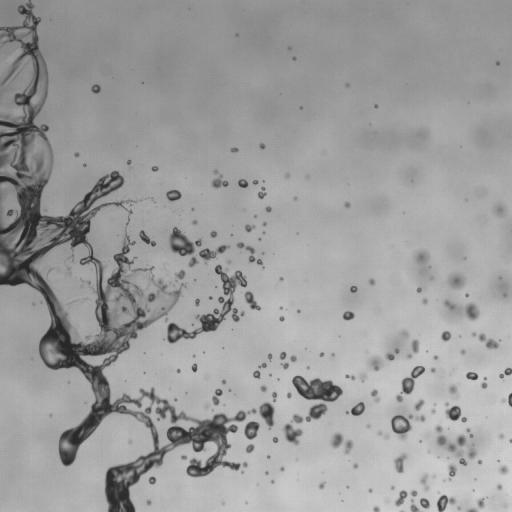droplet: (390, 414, 425, 440), (444, 400, 467, 422), (330, 432, 353, 454), (436, 491, 456, 511), (210, 169, 228, 189), (447, 272, 466, 289), (393, 453, 408, 473), (244, 420, 259, 439), (412, 248, 429, 264), (492, 203, 507, 217), (166, 189, 181, 202), (448, 383, 459, 400), (414, 398, 425, 411), (370, 389, 380, 403), (257, 186, 267, 199), (440, 330, 451, 341), (23, 69, 34, 80), (13, 105, 24, 116), (4, 165, 15, 176), (246, 184, 257, 195), (39, 188, 50, 199), (66, 198, 77, 209), (242, 233, 253, 244), (159, 235, 170, 246), (225, 236, 236, 247), (206, 239, 217, 250), (414, 239, 425, 250), (404, 248, 415, 259), (214, 253, 225, 264), (453, 263, 464, 274), (356, 279, 367, 290), (233, 285, 244, 296), (452, 287, 463, 298), (448, 288, 459, 299), (178, 294, 189, 305), (233, 296, 244, 307), (475, 301, 486, 312), (200, 303, 211, 314), (166, 311, 177, 322), (41, 317, 52, 328), (156, 319, 167, 330), (469, 319, 480, 330), (400, 340, 411, 351), (411, 354, 422, 365), (357, 361, 368, 372), (68, 365, 79, 376), (287, 365, 298, 376), (487, 374, 498, 385), (80, 378, 91, 389), (85, 392, 96, 403), (405, 392, 416, 403), (363, 396, 374, 407), (79, 406, 90, 417), (103, 412, 114, 423), (425, 415, 436, 426), (68, 417, 79, 428), (272, 422, 283, 433), (205, 440, 216, 451), (77, 441, 88, 452), (181, 441, 192, 452), (223, 450, 234, 461), (197, 452, 208, 463), (117, 454, 128, 465), (267, 461, 278, 472), (127, 484, 138, 495), (98, 499, 109, 510), (342, 310, 354, 320), (465, 371, 478, 380), (376, 430, 389, 439), (498, 464, 509, 474), (420, 498, 430, 509), (244, 224, 255, 233), (238, 179, 248, 188), (399, 329, 409, 338), (358, 372, 367, 382), (245, 444, 255, 453), (480, 376, 487, 388), (91, 84, 100, 93), (5, 91, 14, 100), (32, 116, 41, 125), (88, 176, 97, 185), (228, 179, 237, 188), (105, 192, 114, 201), (131, 203, 140, 212), (60, 208, 69, 217), (485, 209, 494, 218), (252, 217, 261, 226), (130, 231, 139, 240), (207, 258, 216, 267), (417, 262, 426, 271), (152, 269, 161, 278), (17, 282, 26, 291), (1, 283, 10, 292), (34, 291, 43, 300), (460, 297, 469, 306), (460, 314, 469, 323), (377, 350, 386, 359), (101, 367, 110, 376), (366, 368, 375, 377), (446, 376, 455, 385), (252, 378, 261, 387), (130, 390, 139, 399), (276, 391, 285, 400), (213, 404, 222, 413), (419, 405, 428, 414), (300, 407, 309, 416), (225, 409, 234, 418), (204, 411, 213, 420), (283, 414, 292, 423), (256, 416, 265, 425), (236, 420, 245, 429), (277, 431, 286, 440), (324, 433, 333, 442), (447, 434, 456, 443), (438, 444, 447, 453), (52, 454, 61, 463), (213, 464, 222, 473), (147, 466, 156, 475), (139, 473, 148, 482), (496, 473, 505, 482), (197, 474, 206, 483), (97, 479, 106, 488), (402, 497, 411, 506), (416, 285, 426, 293), (280, 361, 289, 369), (260, 383, 267, 393), (505, 204, 511, 215), (389, 505, 400, 511), (426, 505, 437, 511), (443, 505, 454, 511), (148, 476, 156, 484), (318, 481, 326, 489), (279, 351, 286, 360), (190, 363, 197, 372), (345, 374, 355, 380), (0, 67, 5, 78), (0, 263, 5, 274), (204, 401, 210, 410), (210, 230, 217, 237), (368, 278, 375, 285), (350, 285, 357, 292), (289, 355, 296, 362), (285, 391, 292, 398), (31, 8, 38, 15), (36, 39, 43, 46), (16, 47, 23, 54), (4, 63, 11, 70), (2, 180, 9, 187), (253, 184, 260, 191), (93, 199, 100, 206), (188, 235, 195, 242), (193, 245, 200, 252), (125, 251, 132, 258), (253, 251, 260, 258), (184, 253, 191, 260), (196, 256, 203, 263), (426, 257, 433, 264), (183, 265, 190, 272), (226, 270, 233, 277), (459, 286, 466, 293), (216, 288, 223, 295), (418, 291, 425, 298), (41, 302, 48, 309), (215, 302, 222, 309), (224, 312, 231, 319), (194, 320, 201, 327), (177, 321, 184, 328), (161, 322, 168, 329), (216, 322, 223, 329), (403, 323, 410, 330), (185, 325, 192, 332), (135, 328, 142, 335), (206, 329, 213, 336), (449, 330, 456, 337), (484, 332, 491, 339), (128, 337, 135, 344), (417, 343, 424, 350), (405, 344, 412, 351), (488, 347, 495, 354), (272, 352, 279, 359), (283, 355, 290, 362), (383, 358, 390, 365), (431, 360, 438, 367), (59, 366, 66, 373), (304, 375, 311, 382), (319, 375, 326, 382), (476, 376, 483, 383), (220, 384, 227, 391), (395, 384, 402, 391), (456, 385, 463, 392), (442, 386, 449, 393), (290, 387, 297, 394), (265, 388, 272, 395), (108, 396, 115, 403), (265, 396, 272, 403), (314, 397, 321, 404), (167, 398, 174, 405), (324, 400, 331, 407), (271, 401, 278, 408), (411, 409, 418, 416), (271, 413, 278, 420), (243, 416, 250, 423), (138, 421, 145, 428), (291, 422, 298, 429), (370, 425, 377, 432), (440, 429, 447, 436), (225, 431, 232, 438), (390, 431, 397, 438), (431, 431, 438, 438), (341, 434, 348, 441), (146, 436, 153, 443), (464, 436, 471, 443), (249, 437, 256, 444), (244, 438, 251, 445), (286, 440, 293, 447), (338, 442, 345, 449), (326, 444, 333, 451), (473, 444, 480, 451), (147, 445, 154, 452), (349, 446, 356, 453), (392, 451, 399, 458), (162, 453, 169, 460), (221, 454, 228, 461), (71, 459, 78, 466), (183, 459, 190, 466), (401, 460, 408, 467), (388, 461, 395, 468), (455, 463, 462, 470), (415, 472, 422, 479), (425, 477, 432, 484), (474, 492, 481, 499), (470, 501, 477, 508), (344, 200, 350, 208), (449, 368, 455, 376), (372, 505, 380, 511), (194, 297, 199, 306), (267, 352, 272, 361), (151, 165, 158, 171), (422, 298, 428, 305), (429, 367, 436, 373), (180, 454, 187, 460), (352, 462, 358, 469), (230, 147, 238, 152), (259, 143, 265, 149), (284, 172, 290, 178), (265, 206, 271, 212), (191, 219, 197, 225), (460, 348, 466, 354), (365, 423, 371, 429), (498, 433, 504, 439), (272, 437, 278, 443), (496, 484, 502, 490), (384, 497, 390, 503), (18, 0, 27, 4), (252, 180, 258, 185), (278, 316, 284, 321), (221, 379, 226, 385), (477, 459, 482, 465), (146, 499, 151, 505), (507, 465, 511, 472), (459, 507, 466, 511), (477, 507, 484, 511), (74, 152, 79, 157), (262, 221, 267, 226), (226, 260, 231, 265), (502, 292, 507, 297), (319, 352, 324, 357), (176, 368, 181, 373), (390, 485, 395, 490), (20, 13, 25, 18), (7, 22, 12, 27), (35, 24, 40, 29), (289, 51, 294, 56), (46, 67, 51, 72), (47, 74, 52, 79), (47, 81, 52, 86), (86, 85, 91, 90), (99, 87, 104, 92), (17, 88, 22, 93), (46, 91, 51, 96), (96, 91, 101, 96), (92, 92, 97, 97), (44, 98, 49, 103), (17, 104, 22, 109), (40, 106, 45, 111), (43, 130, 48, 135), (263, 141, 268, 146), (231, 142, 236, 147), (50, 143, 55, 148), (255, 145, 260, 150), (232, 151, 237, 156), (52, 154, 57, 159), (52, 161, 57, 166), (151, 161, 156, 166), (217, 168, 222, 173), (106, 169, 111, 174), (118, 170, 123, 175), (98, 172, 103, 177), (213, 173, 218, 178), (122, 175, 127, 180), (220, 176, 225, 181), (247, 181, 252, 186), (257, 181, 262, 186), (121, 182, 126, 187), (262, 182, 267, 187), (168, 185, 173, 190), (174, 185, 179, 190), (219, 185, 224, 190), (117, 186, 122, 191), (210, 186, 215, 191), (239, 186, 244, 191), (85, 187, 90, 192), (179, 189, 184, 194), (79, 194, 84, 199), (163, 197, 168, 202), (145, 198, 150, 203), (172, 199, 177, 204), (339, 201, 344, 206), (349, 201, 354, 206), (91, 202, 96, 207), (344, 207, 349, 212), (261, 208, 266, 213), (129, 213, 134, 218), (196, 218, 201, 223), (247, 220, 252, 225), (262, 225, 267, 230), (240, 226, 245, 231), (250, 228, 255, 233), (144, 230, 149, 235), (257, 232, 262, 237), (260, 234, 265, 239), (238, 237, 243, 242), (140, 240, 145, 245), (243, 241, 248, 246), (249, 242, 254, 247), (199, 244, 204, 249), (240, 246, 245, 251), (223, 248, 228, 253), (245, 250, 250, 255), (174, 251, 179, 256), (129, 263, 134, 268), (140, 263, 145, 268), (193, 263, 198, 268), (256, 264, 261, 269), (175, 267, 180, 272), (151, 268, 156, 273), (371, 274, 376, 279), (153, 275, 158, 280), (180, 277, 185, 282), (177, 278, 182, 283), (162, 279, 167, 284), (374, 279, 379, 284), (366, 283, 371, 288), (242, 286, 247, 291), (177, 295, 182, 300), (212, 295, 217, 300), (223, 295, 228, 300), (252, 296, 257, 301), (439, 297, 444, 302), (41, 298, 46, 303), (426, 299, 431, 304), (245, 302, 250, 307), (173, 303, 178, 308), (230, 303, 235, 308), (443, 305, 448, 310), (349, 307, 354, 312), (252, 308, 257, 313), (227, 310, 232, 315), (278, 310, 283, 315), (235, 311, 240, 316), (338, 311, 343, 316), (353, 312, 358, 317), (167, 318, 172, 323), (347, 318, 352, 323), (344, 319, 349, 324), (235, 320, 240, 325), (201, 330, 206, 335), (437, 330, 442, 335), (475, 330, 480, 335), (466, 331, 471, 336), (473, 335, 478, 340), (179, 336, 184, 341), (438, 337, 443, 342), (493, 337, 498, 342), (163, 338, 168, 343), (445, 339, 450, 344), (480, 340, 485, 345), (393, 343, 398, 348), (455, 347, 460, 352), (464, 347, 469, 352), (464, 350, 469, 355), (323, 352, 328, 357), (411, 352, 416, 357), (35, 353, 40, 358), (117, 353, 122, 358), (393, 353, 398, 358), (458, 353, 463, 358), (263, 357, 268, 362), (389, 359, 394, 364), (188, 361, 193, 366), (419, 361, 424, 366), (408, 365, 413, 370), (47, 367, 52, 372), (258, 367, 263, 372), (469, 367, 474, 372), (377, 368, 382, 373), (463, 368, 468, 373), (473, 368, 478, 373), (347, 370, 352, 375), (290, 372, 295, 377), (353, 372, 358, 377), (503, 374, 508, 379), (354, 376, 359, 381), (413, 377, 418, 382), (467, 378, 472, 383), (486, 383, 491, 388), (339, 384, 344, 389), (372, 384, 377, 389), (255, 386, 260, 391), (145, 387, 150, 392), (367, 387, 372, 392), (221, 389, 226, 394), (153, 390, 158, 395), (376, 391, 381, 396), (401, 392, 406, 397), (216, 394, 221, 399), (337, 394, 342, 399), (503, 394, 508, 399), (275, 395, 280, 400), (299, 395, 304, 400), (391, 396, 396, 401), (208, 399, 213, 404), (503, 400, 508, 405), (363, 402, 368, 407), (447, 403, 452, 408), (254, 405, 259, 410), (346, 406, 351, 411), (242, 407, 247, 412), (174, 410, 179, 415), (394, 410, 399, 415), (185, 411, 190, 416), (126, 413, 131, 418), (319, 413, 324, 418), (403, 413, 408, 418), (353, 414, 358, 419), (310, 417, 315, 422), (446, 417, 451, 422), (456, 417, 461, 422), (301, 418, 306, 423), (408, 418, 413, 423), (233, 420, 238, 425), (386, 423, 391, 428), (145, 426, 150, 431), (497, 428, 502, 433), (405, 430, 410, 435), (56, 431, 61, 436), (463, 432, 468, 437), (493, 433, 498, 438), (295, 435, 300, 440), (377, 435, 382, 440), (504, 435, 509, 440), (225, 448, 230, 453), (250, 449, 255, 454), (345, 453, 350, 458), (463, 455, 468, 460), (473, 455, 478, 460), (350, 458, 355, 463), (497, 461, 502, 466), (347, 463, 352, 468), (275, 464, 280, 469), (224, 465, 229, 470), (238, 465, 243, 470), (354, 467, 359, 472), (230, 468, 235, 473), (444, 468, 449, 473), (427, 470, 432, 475), (394, 471, 399, 476), (398, 472, 403, 477), (266, 474, 271, 479), (317, 478, 322, 483), (154, 479, 159, 484), (314, 481, 319, 486), (491, 484, 496, 489), (501, 484, 506, 489), (318, 488, 323, 493), (405, 488, 410, 493), (496, 489, 501, 494), (439, 490, 444, 495), (394, 493, 399, 498), (150, 499, 155, 504), (416, 503, 421, 508), (432, 355, 438, 359), (30, 0, 37, 3), (0, 124, 3, 131), (305, 174, 309, 179), (293, 196, 297, 201), (278, 306, 283, 310), (331, 352, 335, 357), (128, 439, 132, 444), (280, 466, 284, 471), (270, 479, 274, 484), (368, 488, 372, 493), (207, 296, 213, 299), (292, 56, 296, 60), (345, 83, 349, 87), (374, 104, 378, 108), (43, 207, 47, 211), (190, 207, 194, 211), (253, 214, 257, 218), (279, 277, 283, 281), (429, 276, 433, 280), (465, 293, 469, 297), (296, 309, 300, 313), (345, 485, 349, 489), (503, 503, 507, 507), (265, 470, 268, 475), (508, 373, 511, 378), (368, 508, 373, 511), (378, 508, 383, 511), (442, 508, 447, 511), (288, 46, 291, 50), (496, 61, 499, 65), (262, 230, 265, 234), (258, 237, 261, 241), (498, 276, 502, 279), (458, 334, 461, 338), (365, 350, 368, 354), (306, 366, 310, 369), (49, 413, 52, 417), (241, 470, 244, 474), (221, 501, 224, 505), (244, 501, 248, 504), (457, 506, 460, 510), (509, 438, 511, 443), (0, 22, 2, 27), (0, 29, 2, 34), (235, 33, 238, 36), (299, 106, 302, 109), (83, 163, 86, 166), (464, 198, 467, 201), (230, 233, 233, 236), (463, 256, 466, 259), (193, 278, 196, 281), (214, 284, 217, 287), (32, 302, 35, 305), (191, 323, 194, 326), (192, 354, 195, 357), (268, 373, 271, 376), (276, 378, 279, 381), (67, 380, 70, 383), (228, 388, 231, 391), (174, 398, 177, 401), (222, 403, 225, 406), (427, 450, 430, 453), (267, 455, 270, 458), (446, 456, 449, 459), (497, 459, 500, 462), (289, 55, 292, 58), (295, 55, 298, 58), (295, 58, 298, 61), (291, 59, 294, 62), (492, 61, 495, 64), (495, 64, 498, 67), (18, 72, 21, 75), (143, 81, 146, 84), (90, 82, 93, 85), (140, 83, 143, 86), (374, 100, 377, 103), (371, 103, 374, 106), (377, 103, 380, 106), (296, 105, 299, 108), (373, 107, 376, 110), (46, 123, 49, 126), (227, 148, 230, 151), (260, 148, 263, 151), (74, 149, 77, 152), (78, 152, 81, 155), (71, 154, 74, 157), (75, 156, 78, 159), (127, 156, 130, 159), (124, 158, 127, 161), (81, 160, 84, 163), (123, 161, 126, 164), (85, 162, 88, 165), (129, 162, 132, 165), (79, 163, 82, 166), (83, 166, 86, 169), (153, 170, 156, 173), (254, 176, 257, 179), (263, 177, 266, 180), (235, 182, 238, 185), (225, 185, 228, 188), (258, 188, 261, 191), (150, 193, 153, 196), (144, 194, 147, 197), (255, 194, 258, 197), (263, 195, 266, 198), (136, 196, 139, 199), (123, 197, 126, 200), (132, 197, 135, 200), (257, 197, 260, 200), (143, 199, 146, 202), (154, 202, 157, 205), (191, 204, 194, 207), (130, 205, 133, 208), (131, 208, 134, 211), (188, 208, 191, 211), (270, 208, 273, 211), (191, 210, 194, 213), (254, 211, 257, 214), (266, 211, 269, 214), (250, 213, 253, 216), (191, 217, 194, 220), (128, 220, 131, 223), (265, 223, 268, 226), (214, 228, 217, 231), (230, 230, 233, 233), (227, 231, 230, 234), (126, 232, 129, 235), (207, 233, 210, 236), (147, 242, 150, 245), (260, 258, 263, 261), (253, 259, 256, 262), (159, 263, 162, 266), (146, 265, 149, 268), (165, 265, 168, 268), (236, 267, 239, 270), (263, 267, 266, 270), (241, 272, 244, 275), (282, 275, 285, 278), (276, 276, 279, 279), (192, 280, 195, 283), (220, 281, 223, 284), (246, 281, 249, 284), (352, 282, 355, 285), (185, 283, 188, 286), (356, 285, 359, 288), (347, 287, 350, 290), (413, 287, 416, 290), (353, 291, 356, 294), (467, 291, 470, 294), (462, 294, 465, 297), (192, 297, 195, 300), (198, 301, 201, 304), (279, 303, 282, 306), (282, 306, 285, 309), (297, 306, 300, 309), (259, 308, 262, 311), (293, 309, 296, 312), (297, 312, 300, 315), (276, 315, 279, 318), (277, 319, 280, 322), (282, 319, 285, 322), (195, 333, 198, 336), (187, 337, 190, 340), (220, 343, 223, 346), (223, 346, 226, 349), (220, 348, 223, 351), (330, 349, 333, 352), (317, 350, 320, 353), (333, 350, 336, 353), (199, 351, 202, 354), (204, 351, 207, 354), (194, 352, 197, 355), (433, 352, 436, 355), (189, 353, 192, 356), (334, 353, 337, 356), (295, 355, 298, 358), (321, 355, 324, 358), (270, 357, 273, 360), (258, 362, 261, 365), (417, 362, 420, 365), (279, 364, 282, 367), (308, 364, 311, 367), (176, 365, 179, 368), (196, 365, 199, 368), (179, 367, 182, 370), (143, 368, 146, 371), (173, 368, 176, 371), (435, 368, 438, 371), (140, 370, 143, 373), (179, 370, 182, 373), (501, 370, 504, 373), (174, 371, 177, 374), (143, 373, 146, 376), (271, 373, 274, 376), (276, 374, 279, 377), (342, 374, 345, 377), (463, 375, 466, 378), (219, 377, 222, 380), (254, 377, 257, 380), (347, 377, 350, 380), (498, 377, 501, 380), (274, 378, 277, 381), (363, 378, 366, 381), (225, 380, 228, 383), (481, 387, 484, 390), (184, 388, 187, 391), (175, 395, 178, 398), (342, 411, 345, 414), (469, 430, 472, 433), (472, 433, 475, 436), (418, 436, 421, 439), (269, 439, 272, 442), (506, 440, 509, 443), (275, 441, 278, 444), (420, 441, 423, 444), (417, 442, 420, 445), (268, 452, 271, 455), (263, 455, 266, 458), (269, 455, 272, 458), (496, 456, 499, 459), (266, 458, 269, 461), (481, 460, 484, 463), (246, 463, 249, 466), (357, 464, 360, 467), (283, 466, 286, 469), (267, 470, 270, 473), (454, 471, 457, 474), (262, 472, 265, 475), (273, 478, 276, 481), (445, 479, 448, 482), (268, 482, 271, 485), (272, 482, 275, 485), (347, 482, 350, 485), (391, 482, 394, 485), (149, 483, 152, 486), (323, 483, 326, 486), (387, 485, 390, 488), (344, 487, 347, 490), (365, 488, 368, 491), (474, 488, 477, 491), (371, 489, 374, 492), (487, 494, 490, 497), (146, 496, 149, 499), (341, 496, 344, 499), (143, 500, 146, 503), (340, 501, 343, 504), (261, 252, 265, 254), (262, 180, 265, 182), (428, 266, 431, 268), (40, 300, 42, 303), (211, 409, 214, 411), (419, 440, 422, 442), (474, 478, 476, 481), (509, 365, 511, 368), (509, 442, 511, 445), (456, 509, 459, 511), (296, 232, 298, 234), (338, 335, 340, 337), (499, 339, 501, 341), (203, 351, 205, 353), (426, 350, 428, 352), (124, 379, 126, 381), (185, 392, 187, 394), (84, 401, 86, 403), (472, 489, 474, 491), (341, 499, 343, 501), (0, 42, 1, 45), (143, 372, 145, 373), (147, 264, 148, 265)
ligament: (434, 423, 477, 465), (395, 366, 425, 402), (443, 299, 480, 321), (236, 242, 264, 270), (365, 348, 399, 371), (198, 244, 230, 265), (139, 230, 162, 251), (471, 332, 499, 349), (465, 496, 490, 511), (244, 291, 261, 310), (442, 463, 457, 482), (345, 402, 365, 416), (406, 338, 419, 359), (252, 362, 266, 379), (499, 366, 511, 381), (212, 388, 222, 405), (430, 402, 436, 414), (466, 428, 473, 437), (126, 160, 131, 169), (116, 234, 120, 236), (221, 347, 224, 349), (437, 456, 440, 458), (399, 510, 405, 511)
